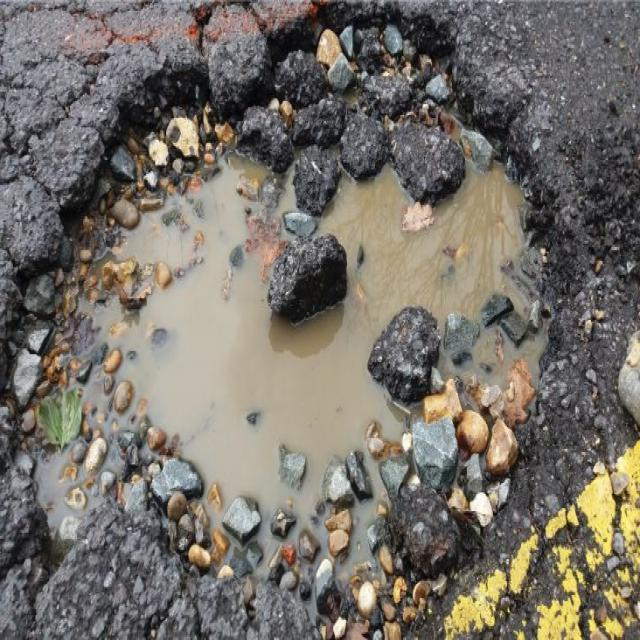Pothole: (16, 6, 593, 604)
